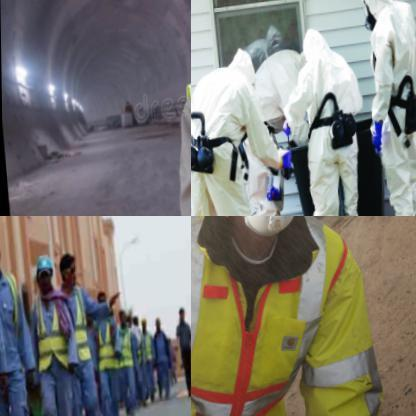vest: (191, 216, 391, 415), (291, 53, 373, 215), (191, 62, 277, 215), (363, 6, 415, 215), (32, 290, 72, 378), (0, 271, 25, 373), (69, 284, 93, 366), (95, 321, 122, 380), (118, 331, 135, 376)
